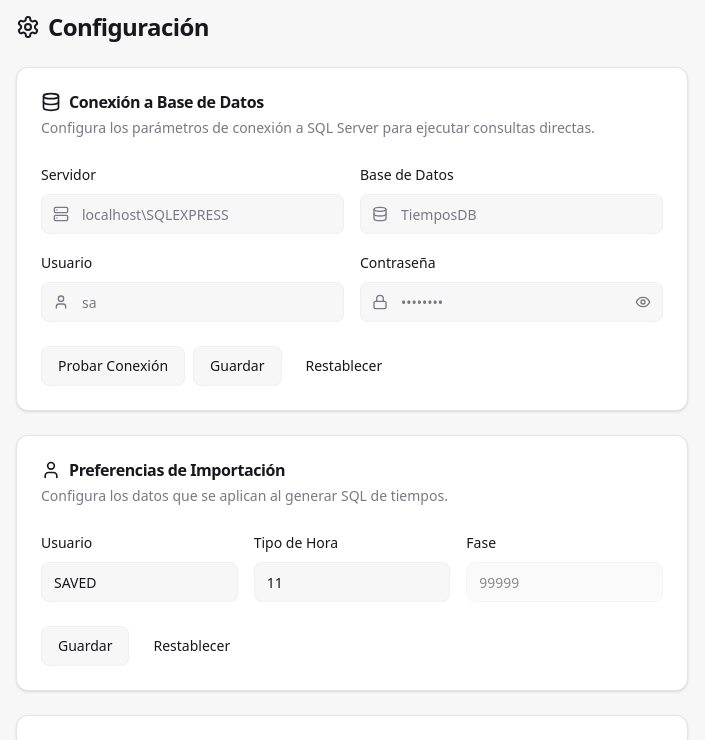
Test case: SettingsPage - Wizard Config Section › Test 5: Restablecer reverts wizard config › should revert wizard fields to last saved values
Replace the text in the field with id "wizard-usuario" with "CHANGED" at (139, 582), box top-left (41, 562), bottom-right (238, 602)
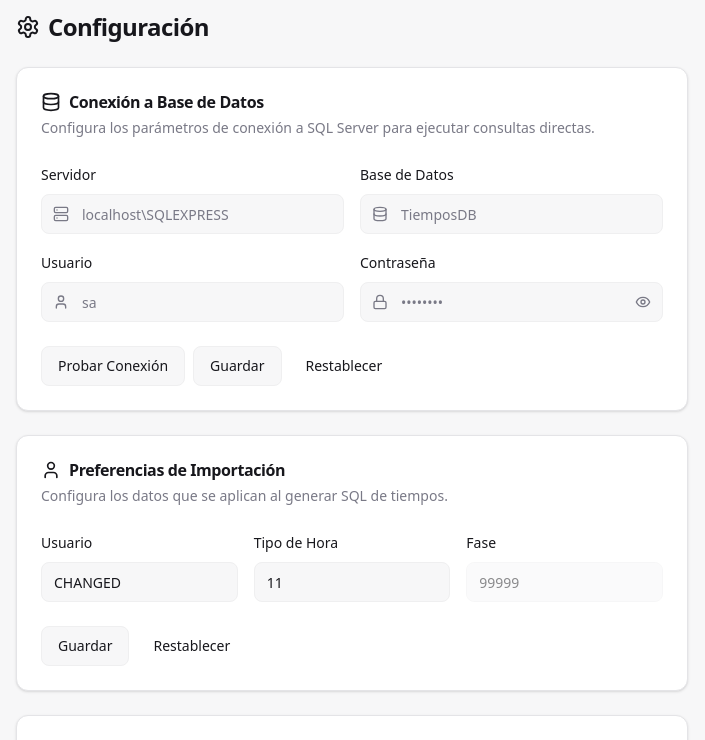
Click Restablecer in the wizard section
Click the button "Restablecer" below "Tipo de Hora" at (192, 646), box top-left (138, 626), bottom-right (246, 666)
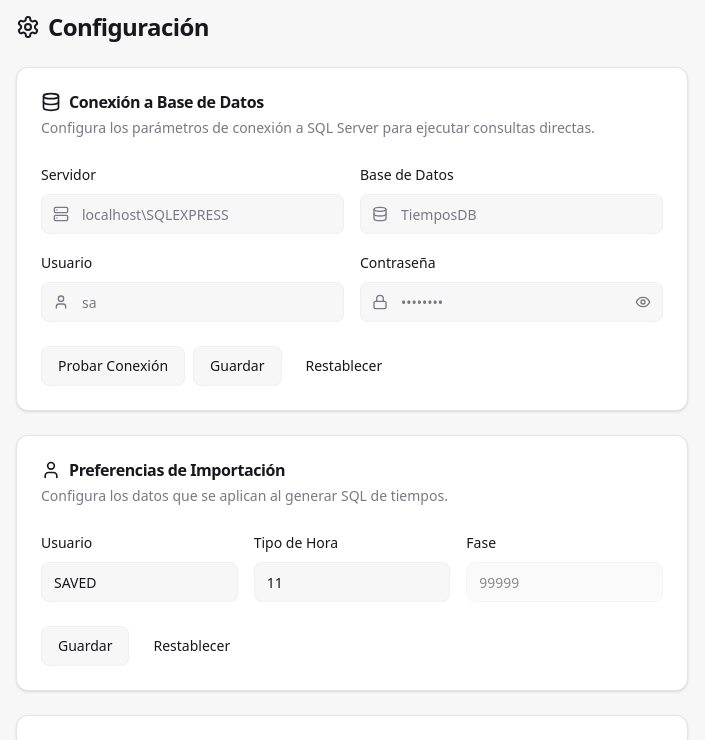
Check: the field with id "wizard-usuario" holds "SAVED", box top-left (41, 562), bottom-right (238, 602)
